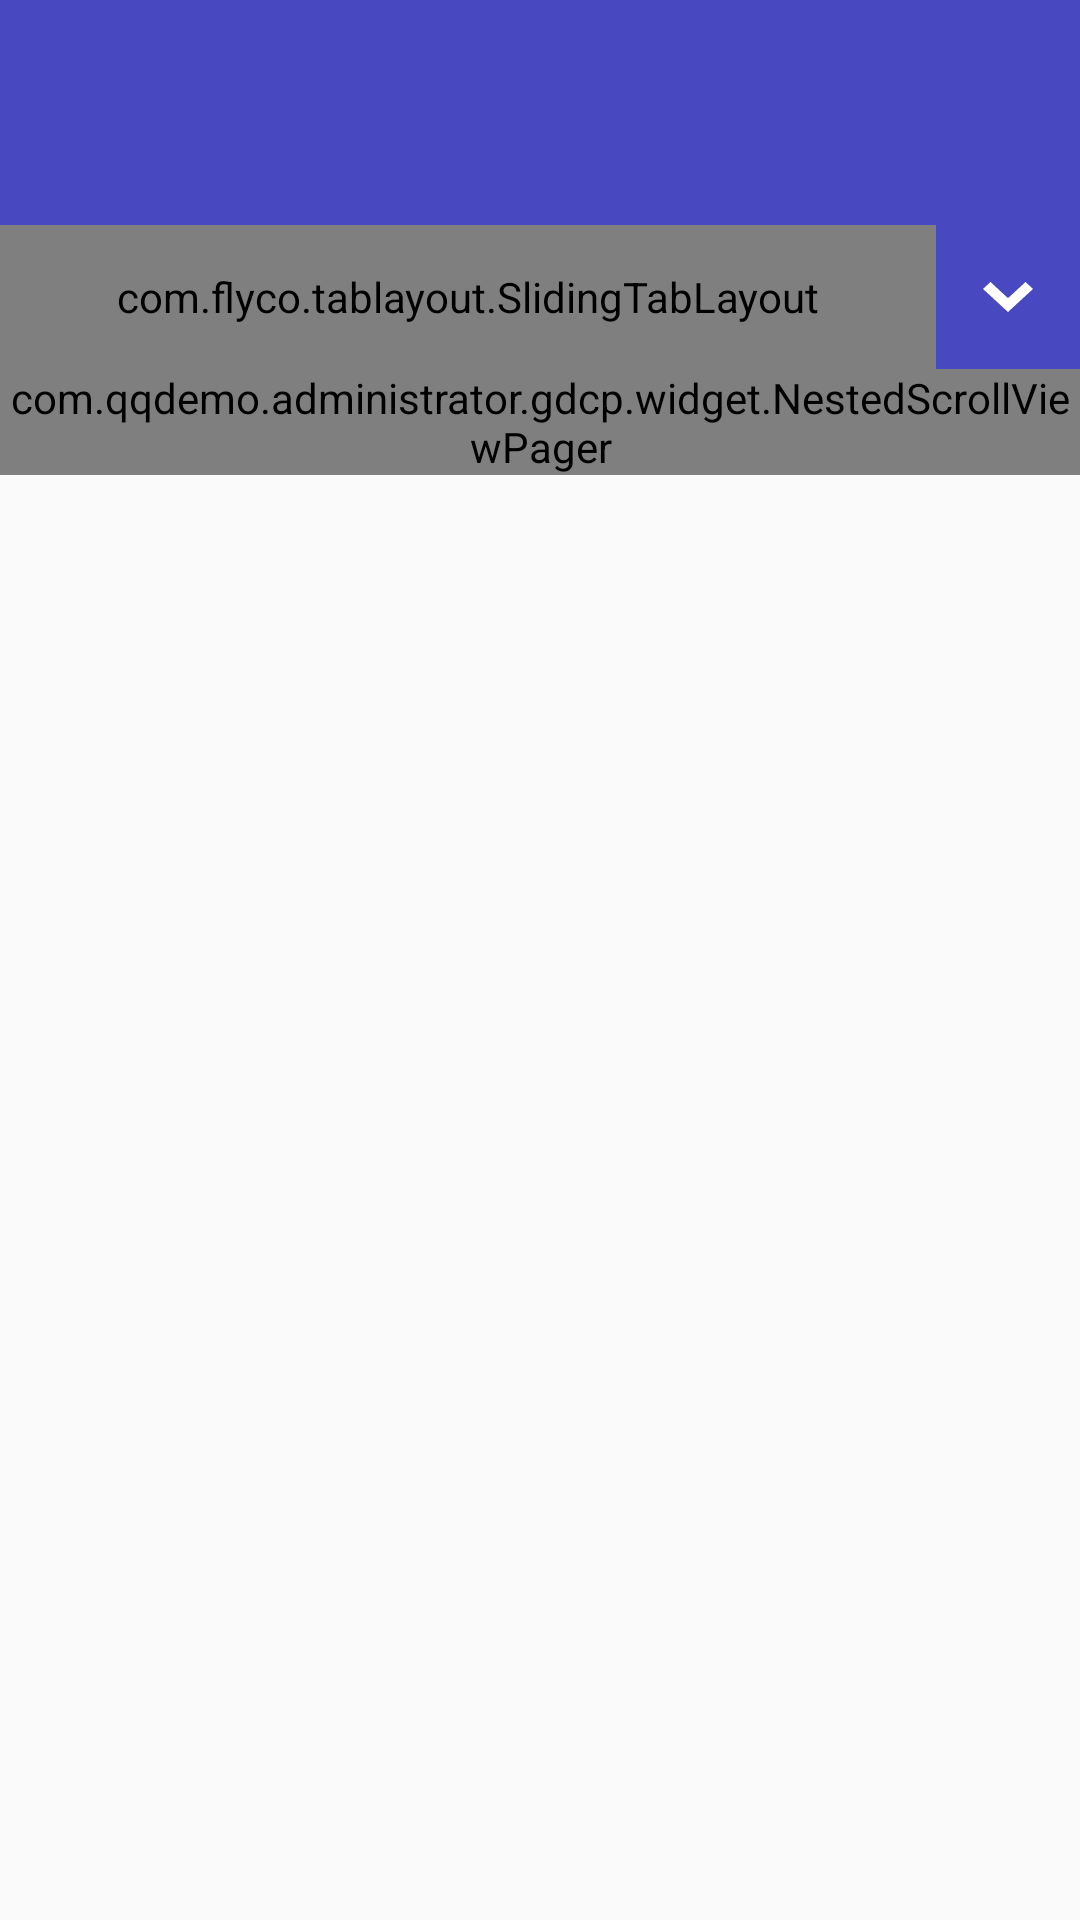

Named icons in this screenshot (1080px×1920px) and their bounding boxes, (x1=x1, y1=y1, x2=x2, y2=y2):
more: (x1=983, y1=282, x2=1033, y2=312)
